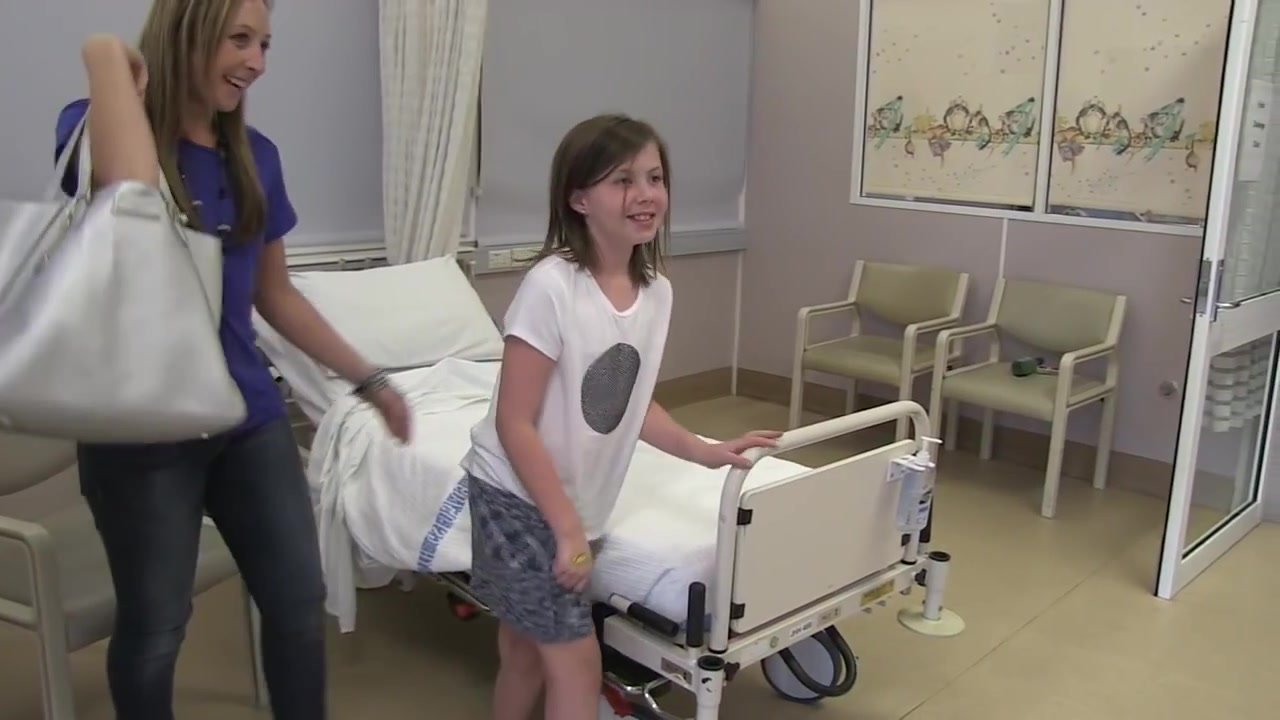chair: (1, 428, 270, 720), (929, 275, 1134, 518), (788, 257, 973, 451)
curtain: (1198, 1, 1280, 432), (370, 1, 495, 274)
dispenser: (893, 434, 945, 533)
door_handle: (1215, 300, 1242, 312), (1178, 297, 1192, 306)
foot_board: (699, 395, 945, 651)
hospital_bed: (251, 251, 964, 720)
patient: (460, 111, 785, 720)
visitor: (1, 1, 412, 720)
